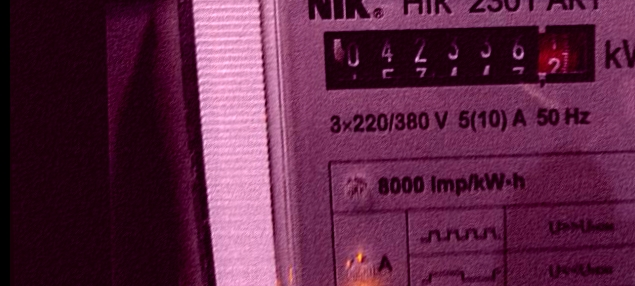0: (344, 42, 360, 71)
1: (547, 32, 559, 54)
2: (412, 37, 428, 66), (545, 58, 562, 76)
3: (476, 32, 492, 63), (444, 35, 459, 64)
4: (378, 37, 395, 66)
6: (510, 34, 527, 64)
screen: (311, 14, 609, 102)
